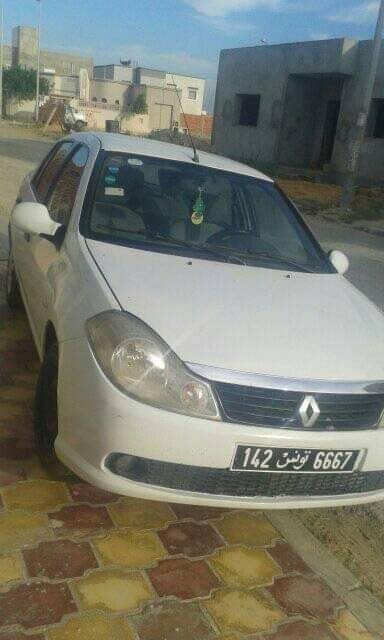LP: (232, 441, 360, 473)
